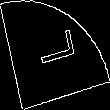L_W: (31, 34, 79, 76)
